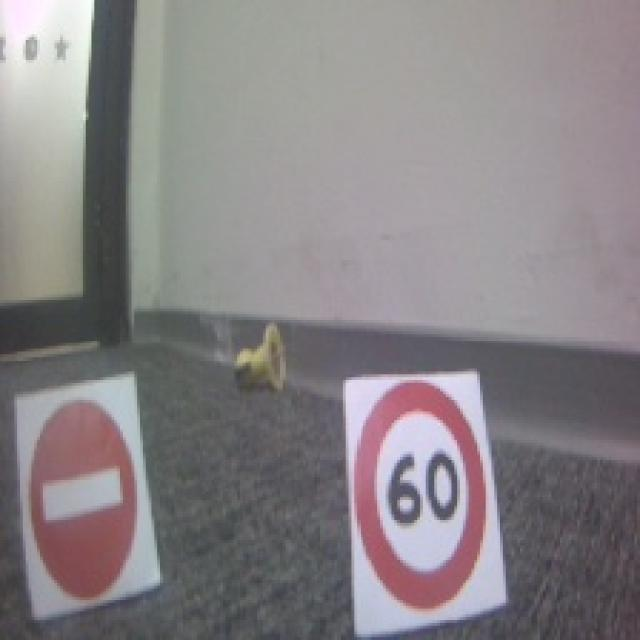DoNotEnterSign: (27, 392, 139, 597)
